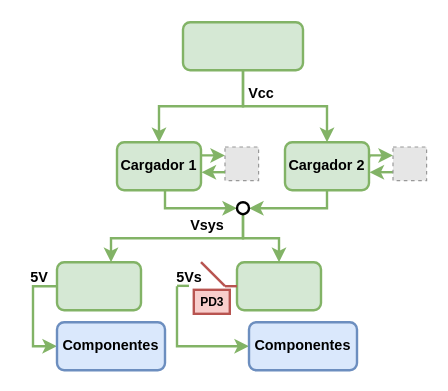
Some shapes in this 448 by 391 pixel diagram are drawn without their labels. Grey dashed boxes stand in for pictures. The shapes that lost their labels are listed below. From the top down, each one's centre as x and y in pixels, then its label:
the point at 242,45: Alimentación externa
the point at 98,285: Elevador 1
the point at 278,285: Elevador 2
